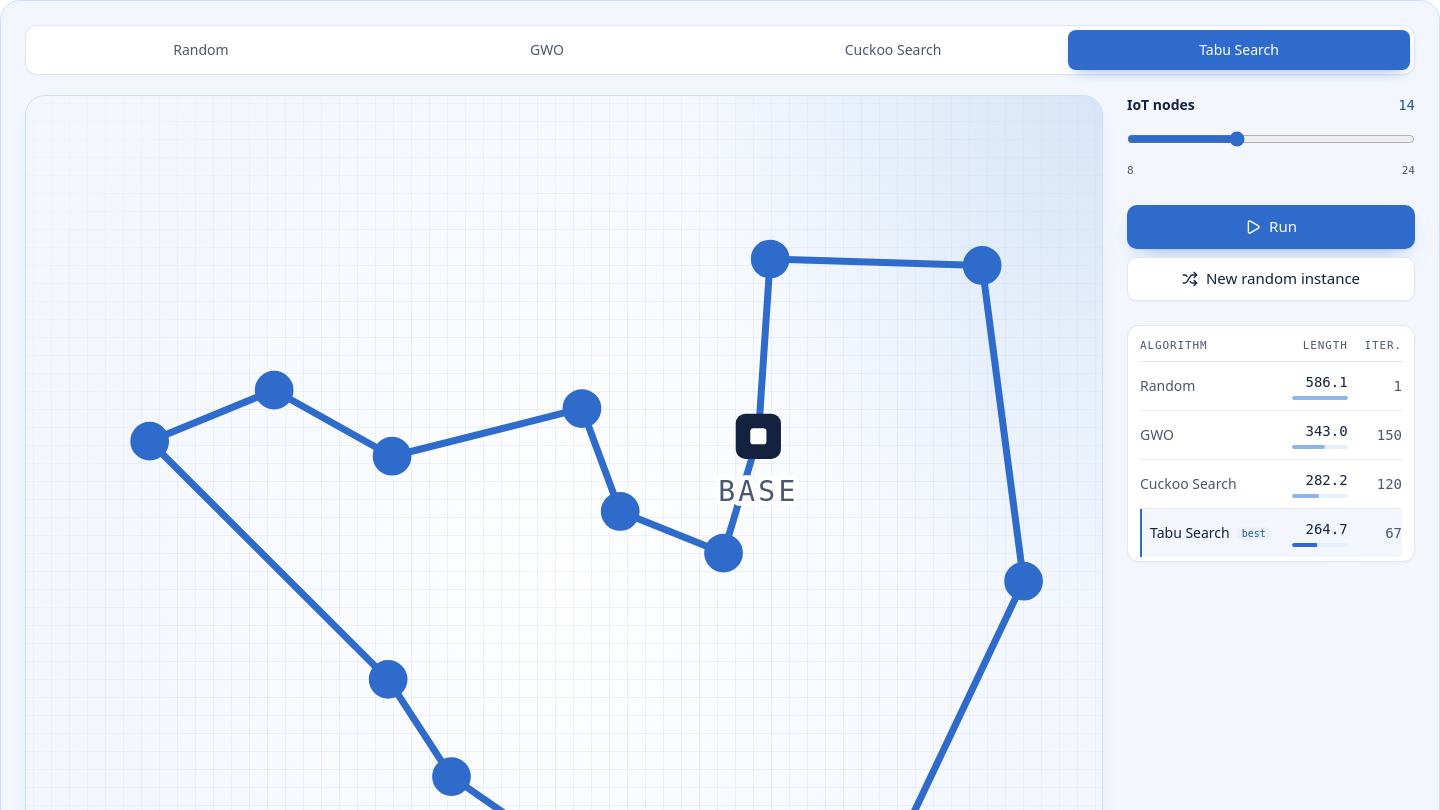
Test: UavTrajectoryLab › recomputes the instance when the node count changes
Set the slider labelled "IoT nodes" to "20" at (1339,139), box top-left (1127, 127), bottom-right (1415, 151)
(page scrolled)
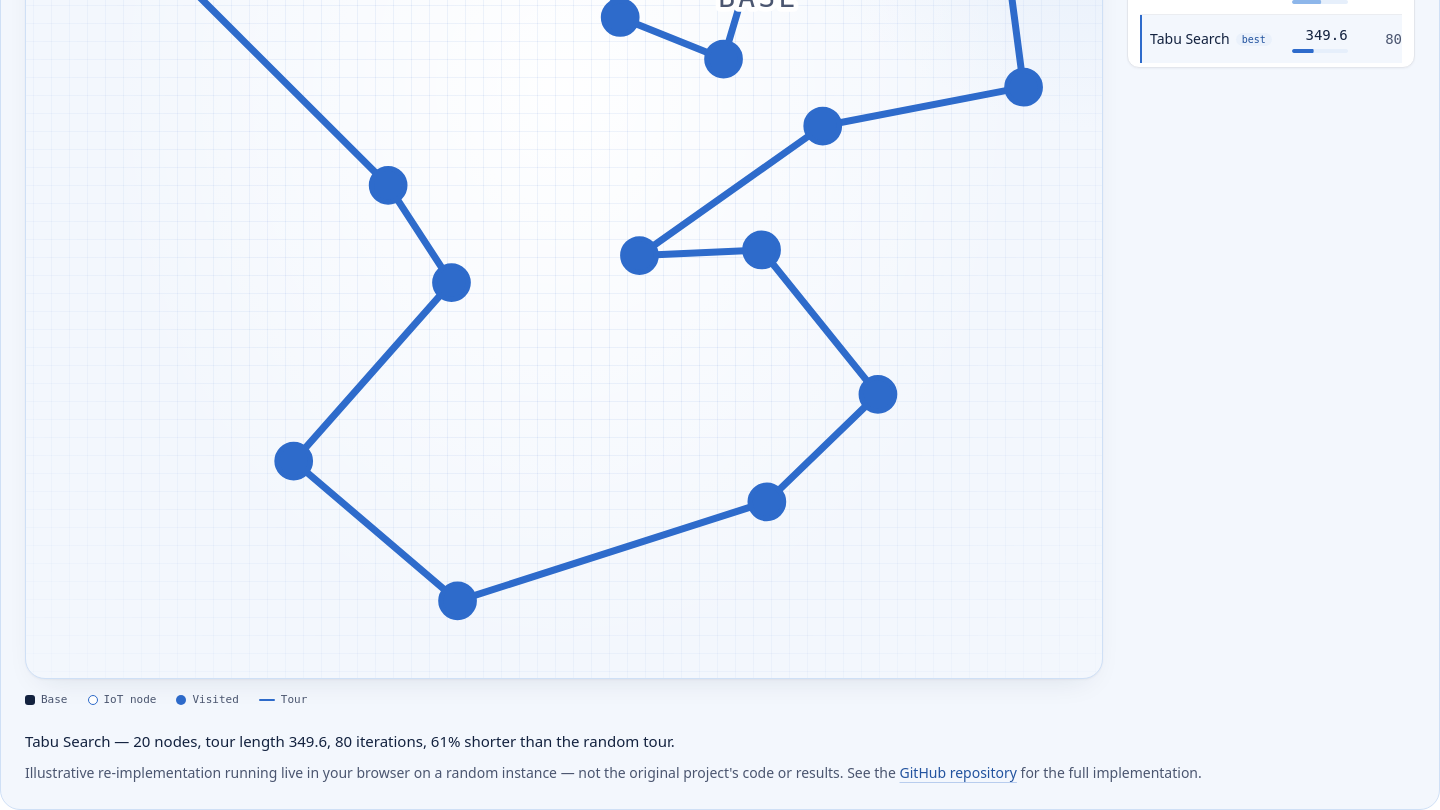
Check: the message shows "20 nodes", box top-left (25, 731), bottom-right (675, 751)
